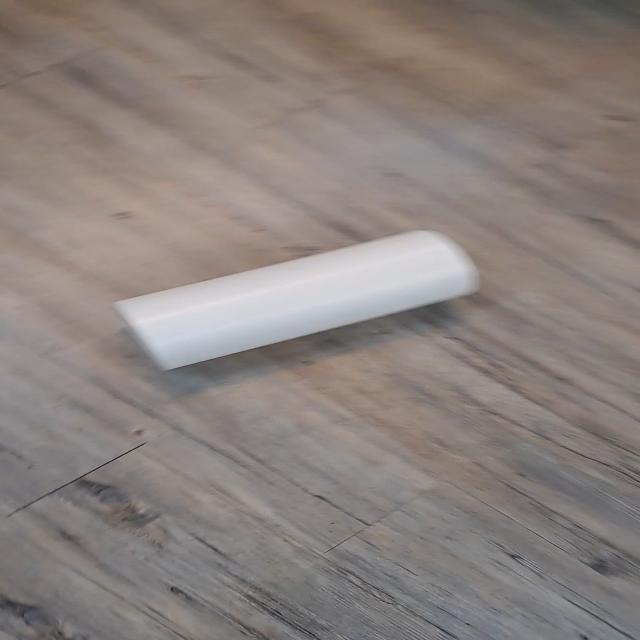CORAL: (90, 215, 482, 385)
